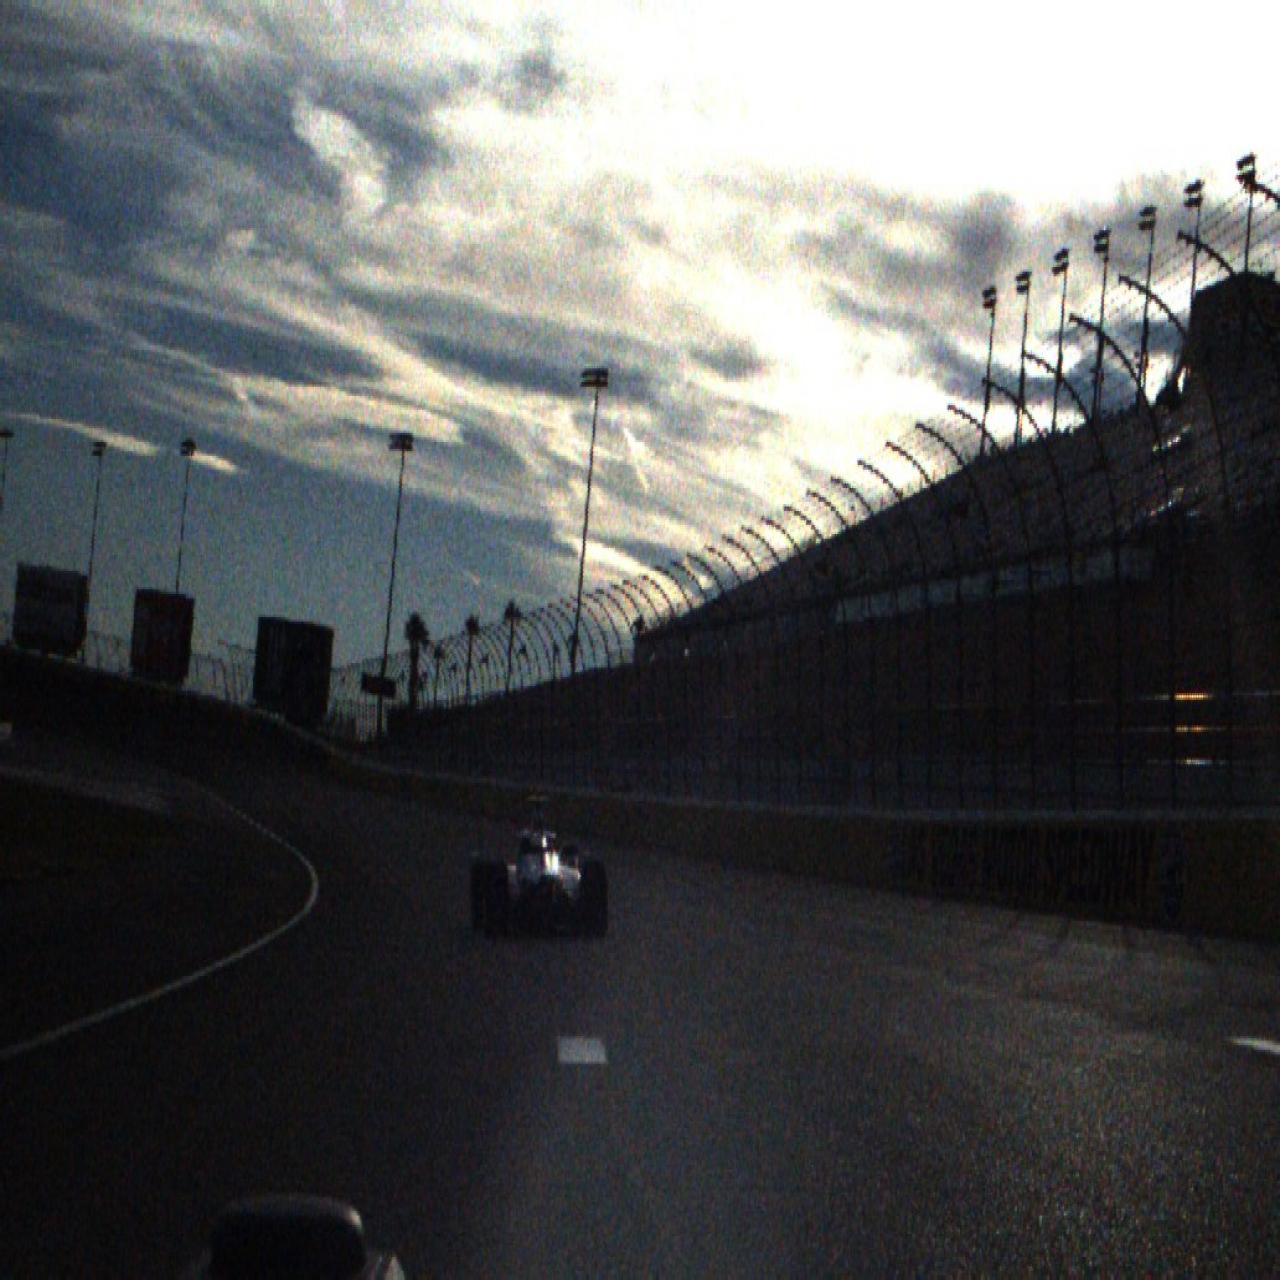AV: (470, 795, 610, 940)
Wheel: (583, 859, 608, 940), (482, 863, 508, 938), (470, 852, 491, 931)
